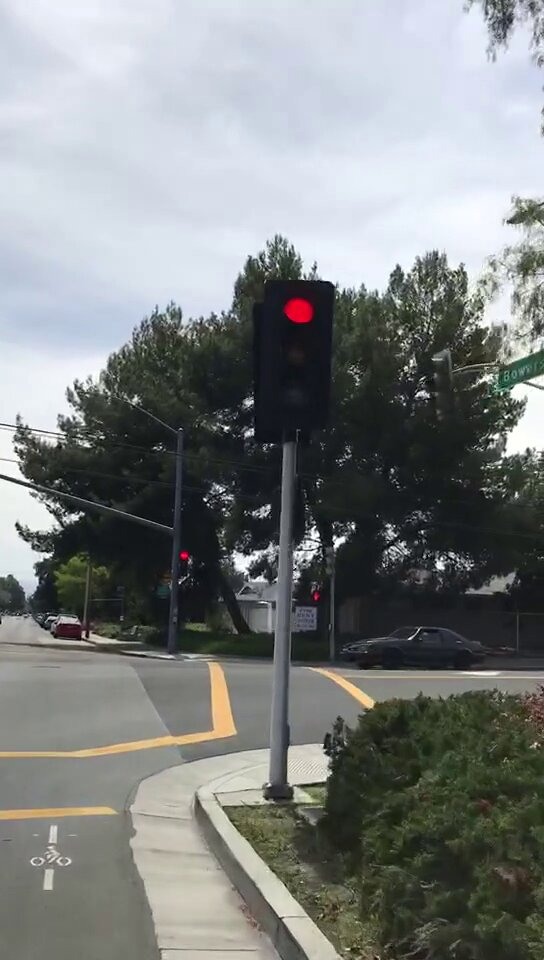red_light: (270, 284, 330, 427), (176, 546, 190, 577)
